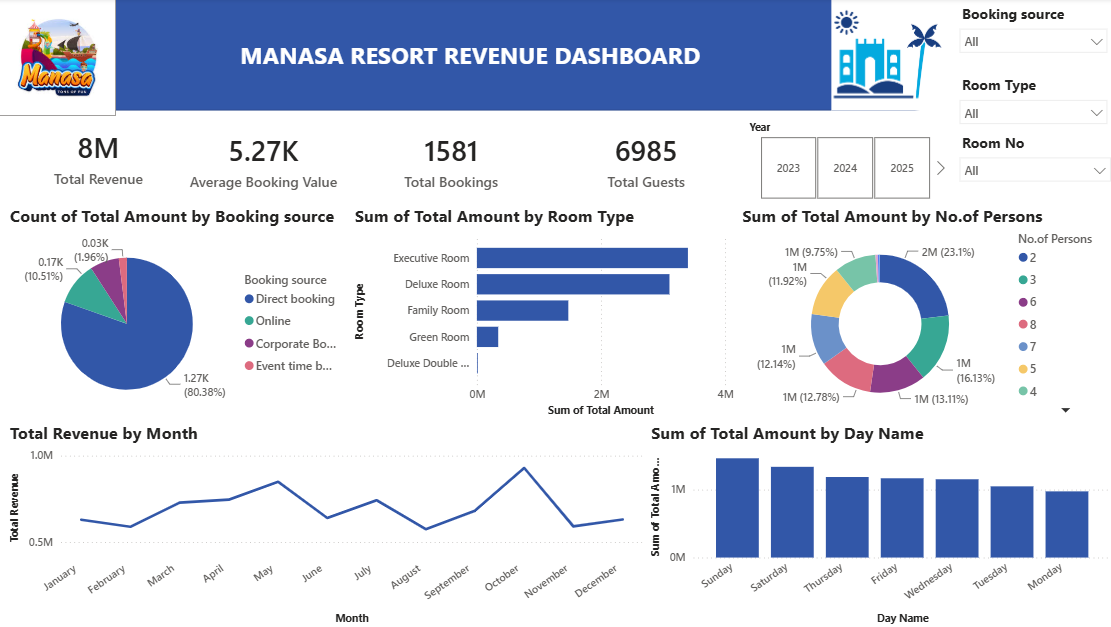

Layout of this report page (visuals, bound fields, positions):
{"tool":"powerbi","page":{"name":"Page 1","canvas":[1280,720],"ordinal":0},"visuals":[{"type":"card","fields":{"Values":["Bookings_2024.Total Bookings"]},"box":[400.5,133.5,229.6,101.4],"z":0},{"type":"card","fields":{"Values":["Bookings_2024.Total Revenue"]},"box":[8.9,128.1,211.8,106.8],"z":1000},{"type":"card","fields":{"Values":["Bookings_2024.Average Booking Value"]},"box":[202.9,133.5,197.6,101.4],"z":2000},{"type":"clusteredBarChart","fields":{"Category":["Bookings_2024.Room Type"],"Y":["Sum(Bookings_2024.Total Amount)"]},"box":[400.5,234.9,441.4,247.4],"z":3000},{"type":"pieChart","fields":{"Y":["CountNonNull(Bookings_2024.Total Amount)"],"Category":["Bookings_2024.Booking source"]},"box":[8.9,234.9,391.6,247.4],"z":4000},{"type":"lineChart","fields":{"Category":["Bookings_2024.Date.Variation.Date Hierarchy.Month"],"Y":["Bookings_2024.Total Revenue"]},"box":[8.9,482.3,729.7,236.7],"z":5000},{"type":"slicer","fields":{"Values":["Bookings_2024.Date.Variation.Date Hierarchy.Year"]},"box":[841.8,133.5,242.1,101.4],"z":6000},{"type":"slicer","fields":{"Values":["Bookings_2024.Booking source"]},"box":[1083.9,1.8,188.7,80.1],"z":8000},{"type":"slicer","fields":{"Values":["Bookings_2024.Room Type"]},"box":[1083.9,81.9,188.7,65.9],"z":9000},{"type":"slicer","fields":{"Values":["Bookings_2024.Room No"]},"box":[1083.9,147.7,192.2,87.2],"z":10000},{"type":"card","fields":{"Values":["Bookings_2024.Total Guests"]},"box":[630,133.5,215.4,101.4],"z":11000},{"type":"columnChart","fields":{"Category":["Bookings_2024.Day Name"],"Y":["Sum(Bookings_2024.Total Amount)"]},"box":[738.6,482.3,533.9,236.7],"z":12000},{"type":"donutChart","fields":{"Y":["Sum(Bookings_2024.Total Amount)"],"Category":["Bookings_2024.No.of Persons"]},"box":[841.8,234.9,430.7,247.4],"z":13000},{"type":"shape","box":[0,0,1075,128.1],"z":14000},{"type":"image","box":[0,0,133.5,133.5],"z":16000},{"type":"image","box":[792,0,439.6,128.1],"z":16001}]}

Visuals, with their boxes in screenshot pixels (x1, y1, x2, y2), scaled from the page's 1280x720 canvas onto the 1111x627 screenshot:
card - Bookings_2024.Total Bookings: box(348, 116, 547, 205)
card - Bookings_2024.Total Revenue: box(8, 112, 192, 205)
card - Bookings_2024.Average Booking Value: box(176, 116, 348, 205)
clusteredBarChart - Bookings_2024.Room Type x Sum(Bookings_2024.Total Amount): box(348, 205, 731, 420)
pieChart - CountNonNull(Bookings_2024.Total Amount) x Bookings_2024.Booking source: box(8, 205, 348, 420)
lineChart - Bookings_2024.Date.Variation.Date Hierarchy.Month x Bookings_2024.Total Revenue: box(8, 420, 641, 626)
slicer - Bookings_2024.Date.Variation.Date Hierarchy.Year: box(731, 116, 941, 205)
slicer - Bookings_2024.Booking source: box(941, 2, 1105, 71)
slicer - Bookings_2024.Room Type: box(941, 71, 1105, 129)
slicer - Bookings_2024.Room No: box(941, 129, 1108, 205)
card - Bookings_2024.Total Guests: box(547, 116, 734, 205)
columnChart - Bookings_2024.Day Name x Sum(Bookings_2024.Total Amount): box(641, 420, 1104, 626)
donutChart - Sum(Bookings_2024.Total Amount) x Bookings_2024.No.of Persons: box(731, 205, 1104, 420)
shape: box(0, 0, 933, 112)
image: box(0, 0, 116, 116)
image: box(687, 0, 1069, 112)
